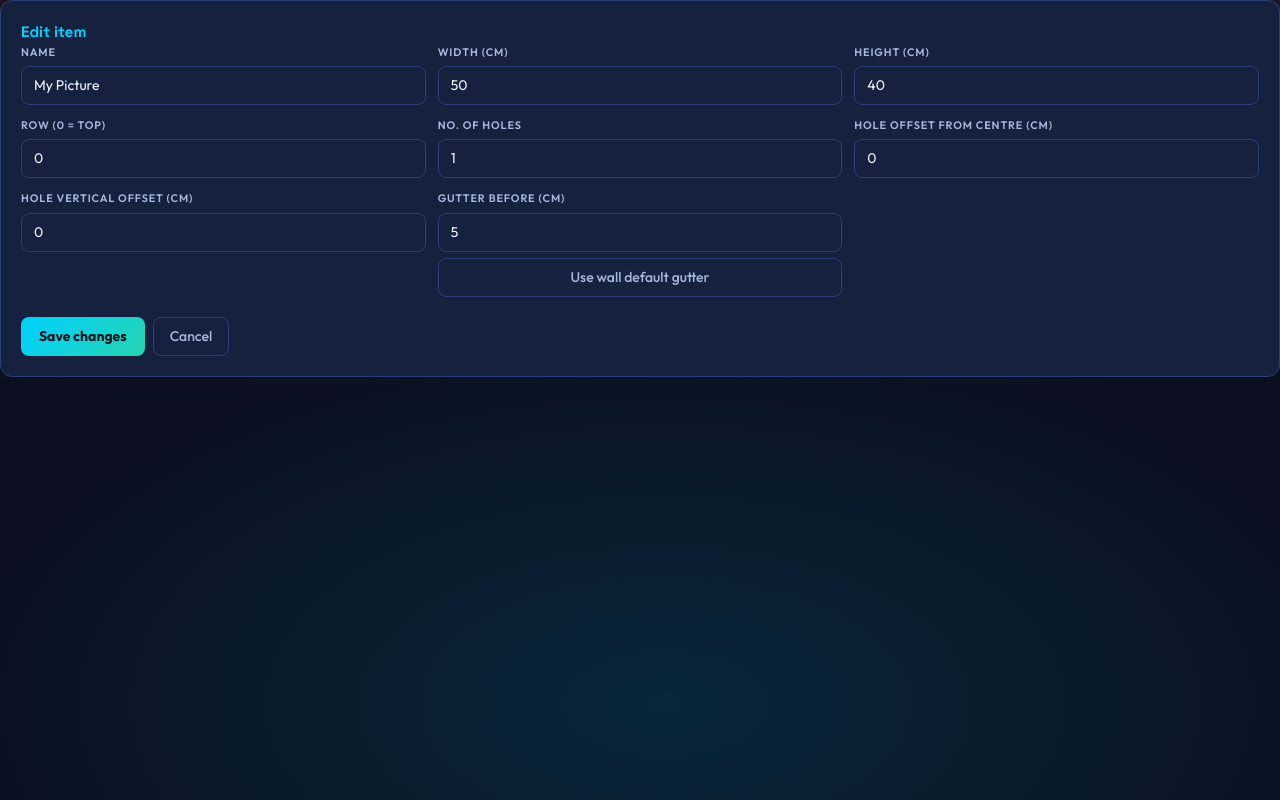
Test case: ItemForm › gutter override › hides "Use wall default gutter" button after clicking it
Click the button "Use wall default gutter".
click(640, 277)  # box [438,258,842,297]
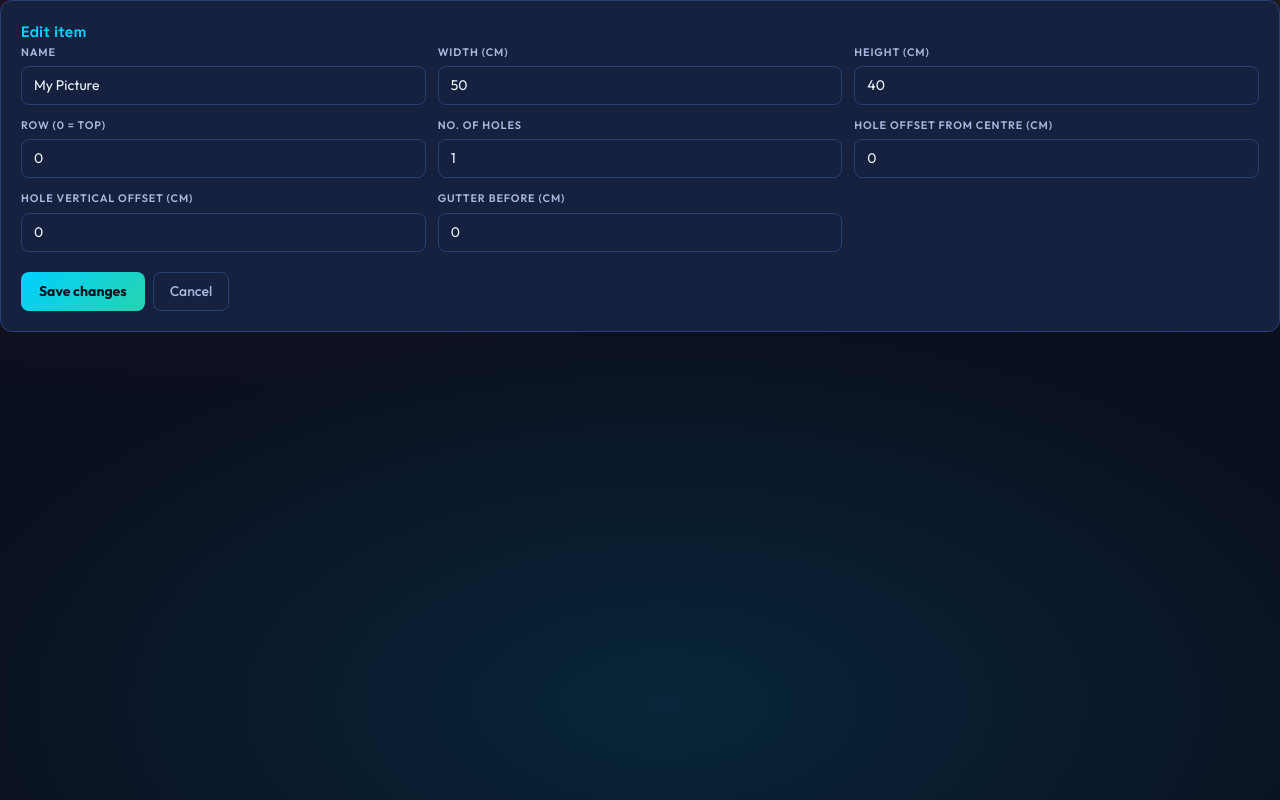
Check: the button "Use wall default gutter" is gone
